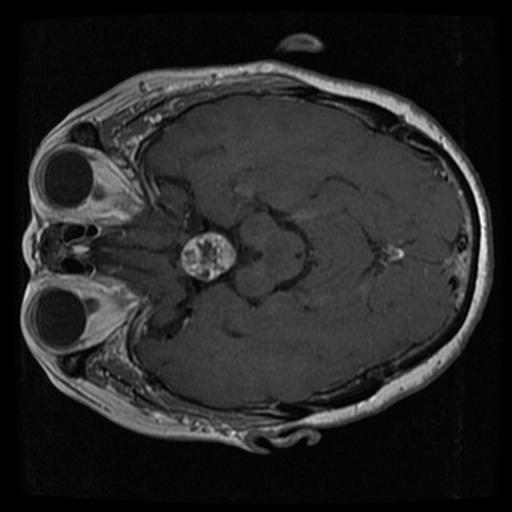pituitary tumour: (180, 231, 237, 283)
